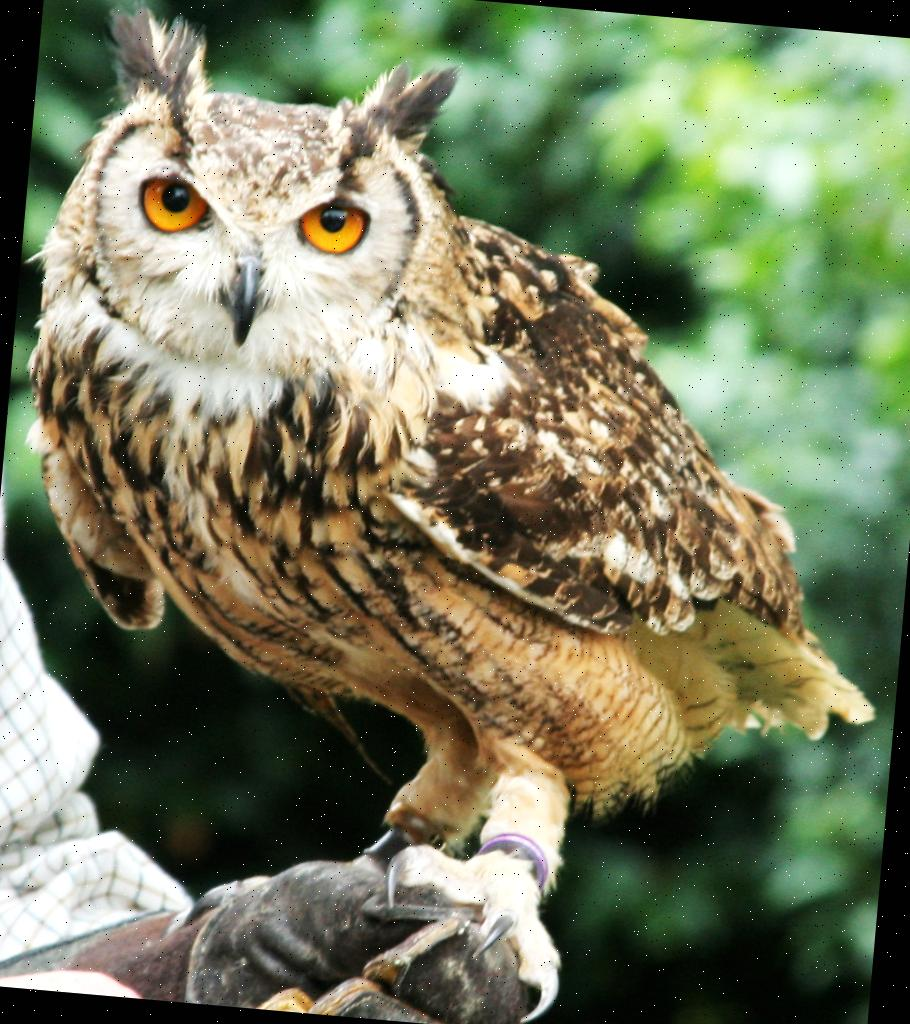Owl: (0, 1, 910, 1024)
